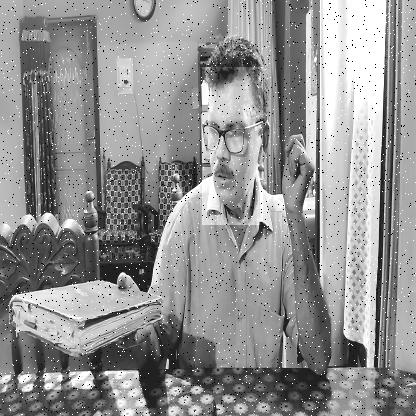Distracted: (202, 68, 263, 226)
